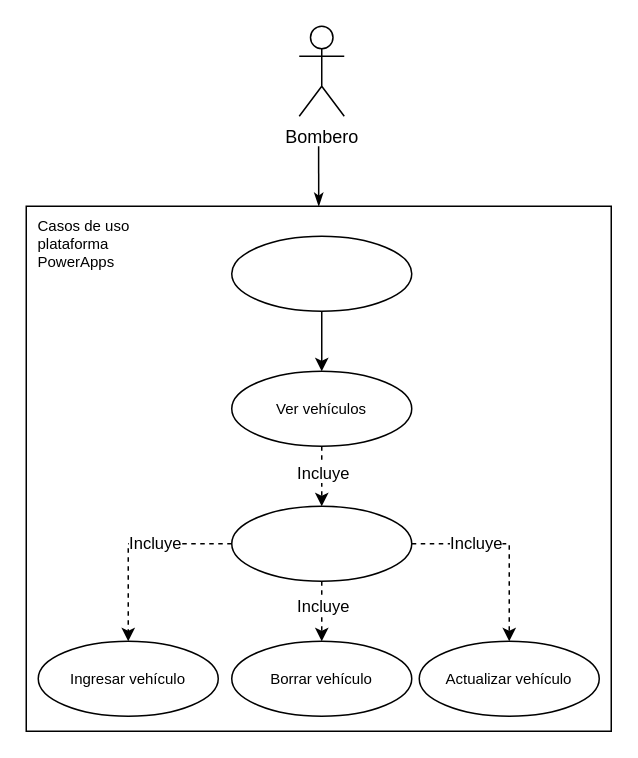
Some shapes in this 638 by 758 pixel diagram are drawn without their labels. Here are the shapes that lost their labels. From the top down, the centre of each, then its label:
At pixel 321 273: "Ingresar a APP".
At pixel 321 543: "Gestionar vehículos".
